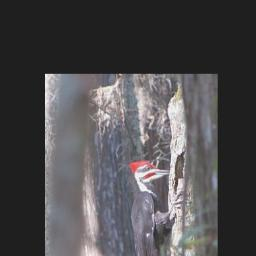Woodpecker: (127, 160, 192, 256)
